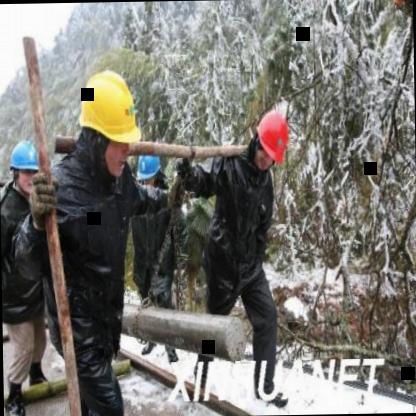helmet: (74, 64, 143, 180), (249, 100, 294, 178), (8, 140, 41, 193), (136, 142, 164, 191)
